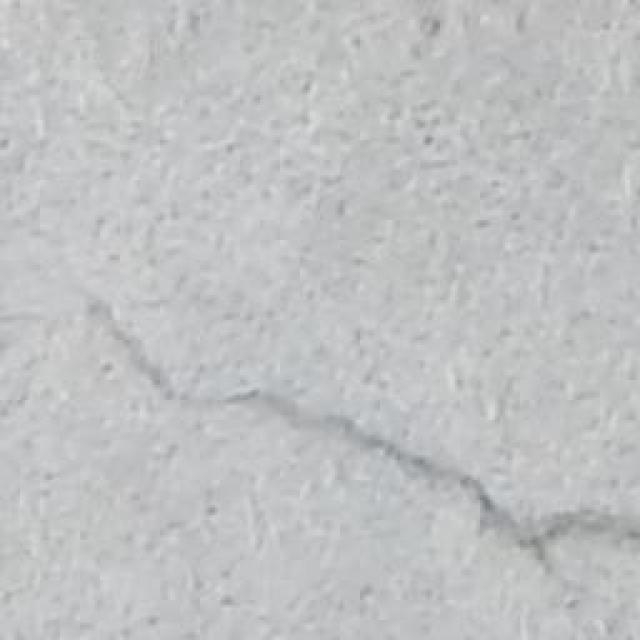concrete-crack: (83, 297, 640, 588)
